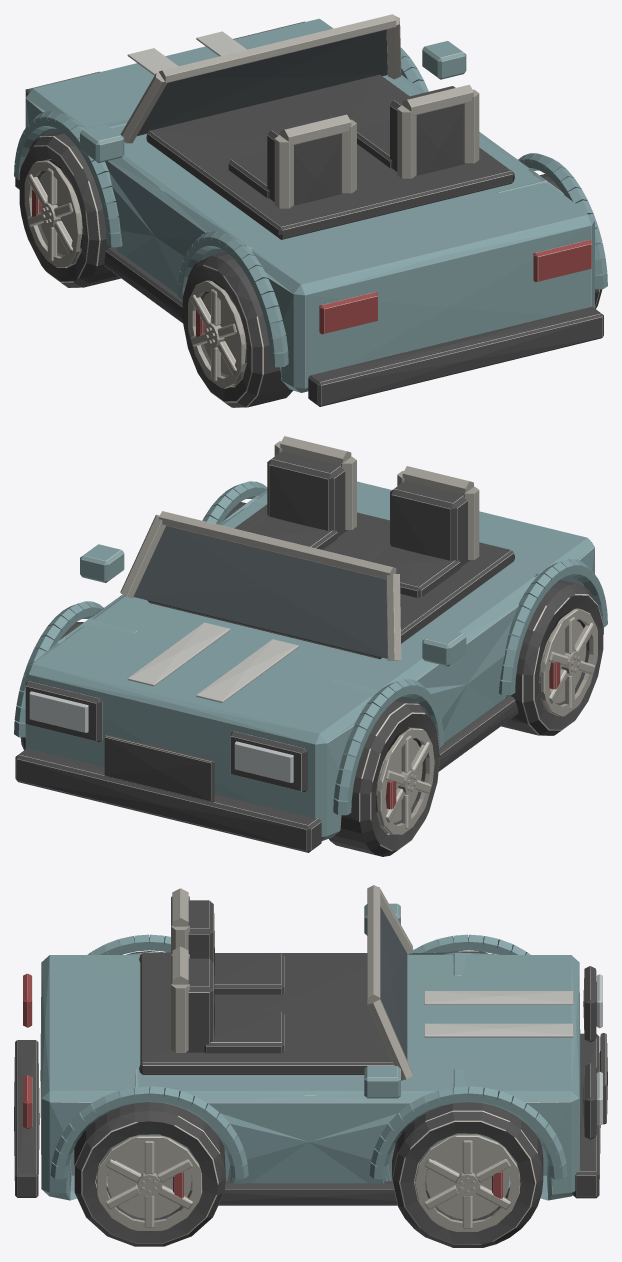
The model's file is car_roadster.glb.
3 views of the same model, one above another, from view 1: azimuth 30°, elevation 25°; view 2: azimuth 150°, elevation 25°; view 3: azimuth 270°, elevation 25° (orthographic). The views are drawn at different scales.
Parts seen in each view (by area): view 1: Body.005, WheelMesh.022, WheelMesh.020; view 2: Body.005, WheelMesh.020, WheelMesh.022; view 3: Body.005, WheelMesh.021, WheelMesh.023.
Part boxes in pixels (box(x1,y1,x2,y2)): Body.005: box(14, 14, 607, 406); WheelMesh.022: box(182, 252, 293, 407); WheelMesh.020: box(19, 131, 120, 287); Body.005: box(14, 436, 607, 852); WheelMesh.020: box(329, 699, 440, 856); WheelMesh.022: box(501, 580, 603, 735); Body.005: box(14, 885, 607, 1205); WheelMesh.021: box(392, 1102, 543, 1247); WheelMesh.023: box(74, 1102, 225, 1246).
Size of the model in its own units: 2.64 by 1.65 by 3.76.
